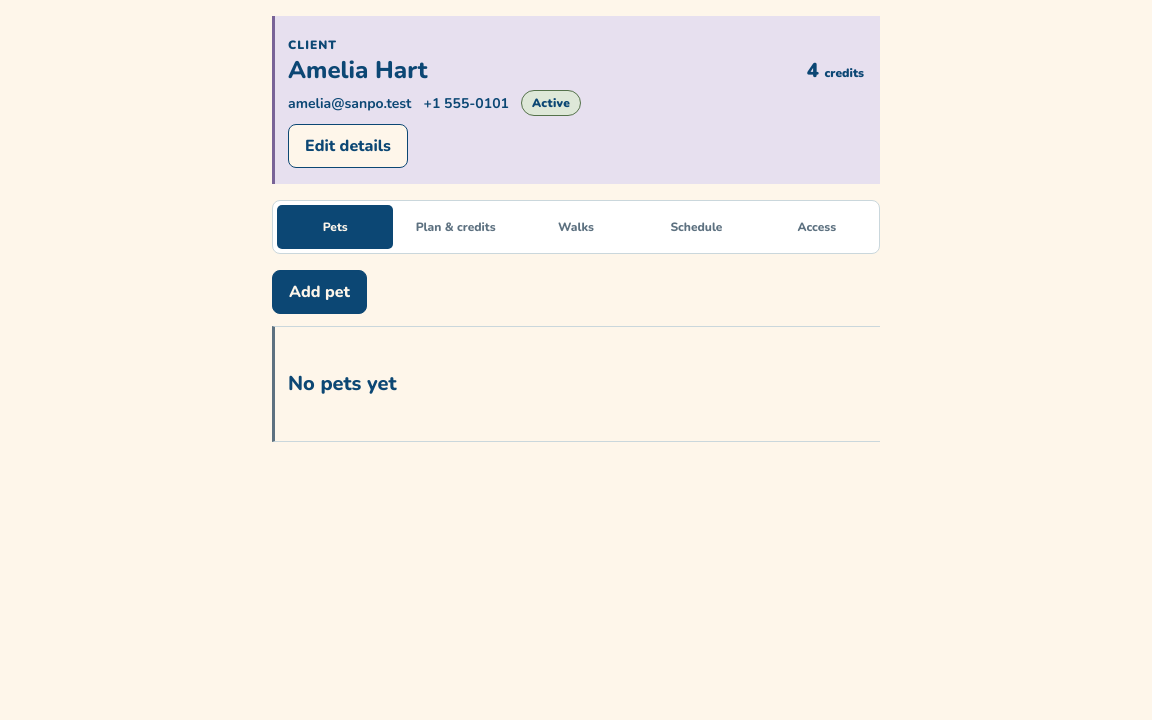
Test: ClientDetail — a client's address has opted out of email › asks again when the operator saves a different address, and says so
Expected: the heading "Amelia Hart" is shown, [288, 57, 427, 85]
Click the button "Edit details": (348, 146) [288, 124, 408, 168]
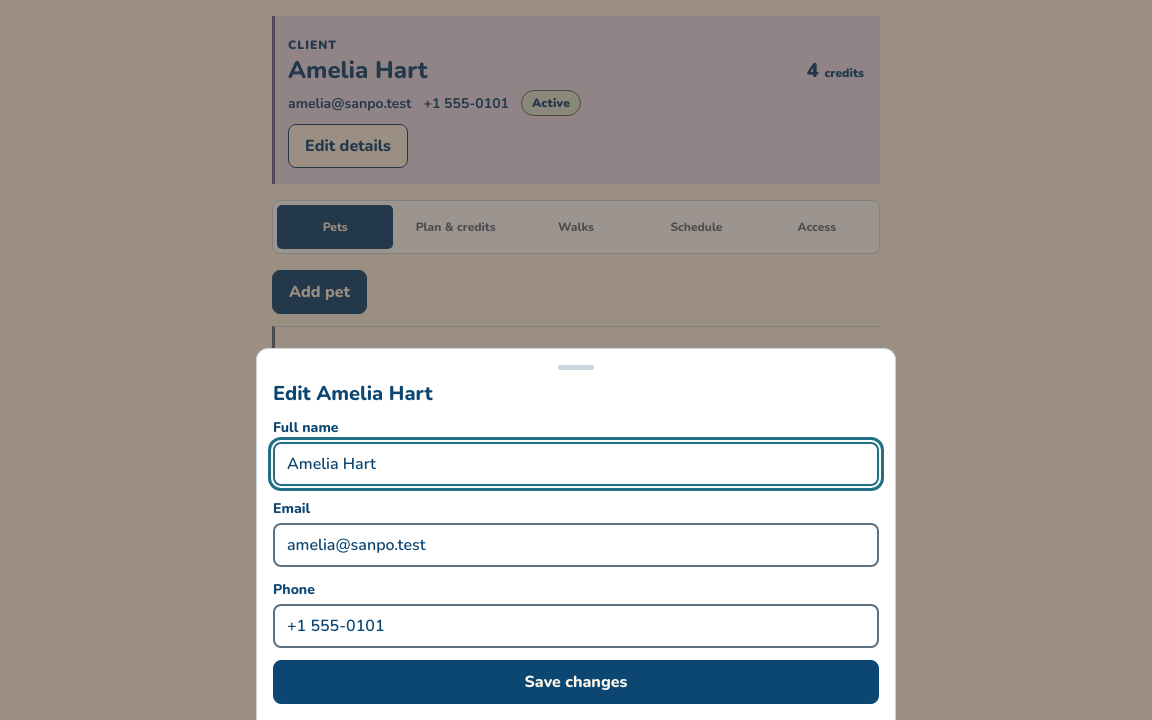
Clear the field labelled "Email": (576, 545) [273, 523, 879, 567]
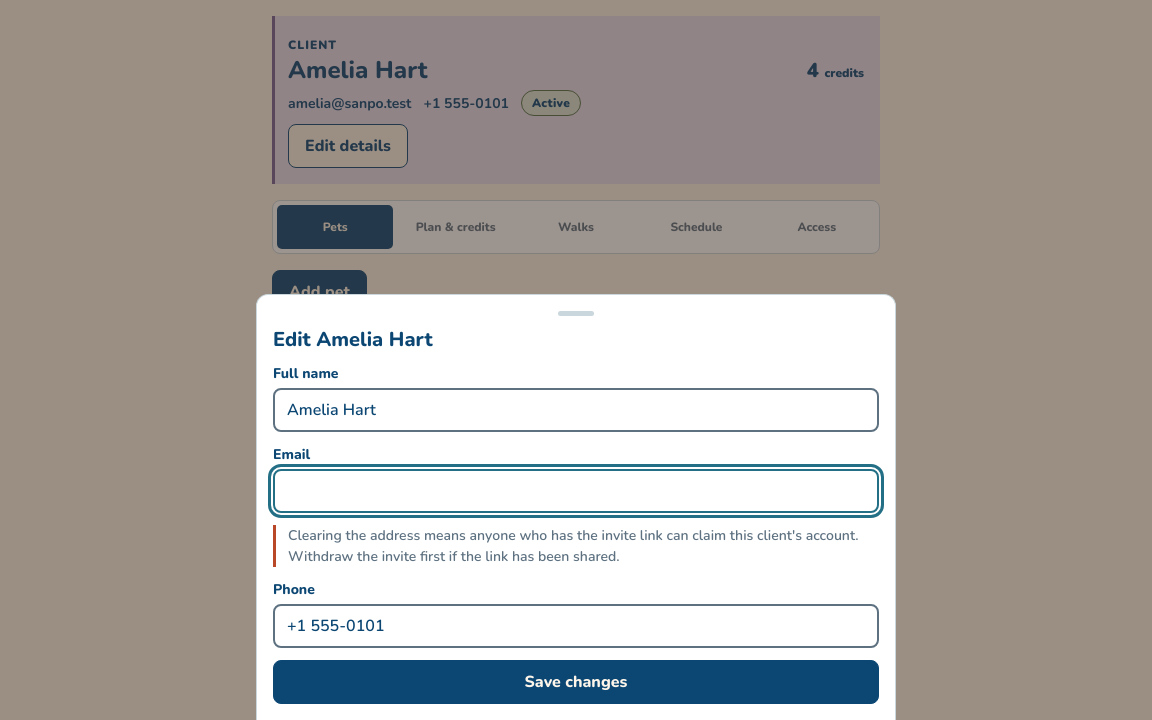
In the field labelled "Email": (576, 491) [273, 469, 879, 513], type "typo@gmial.test"
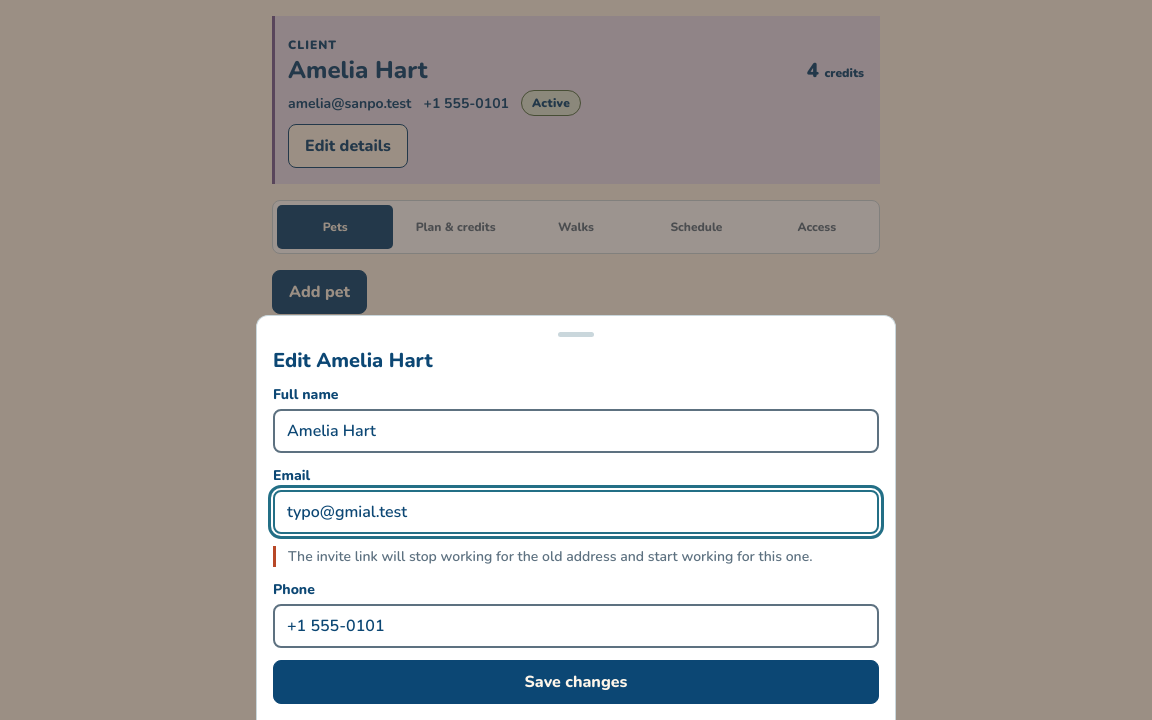
Click the button "Save changes": (576, 682) [273, 660, 879, 704]
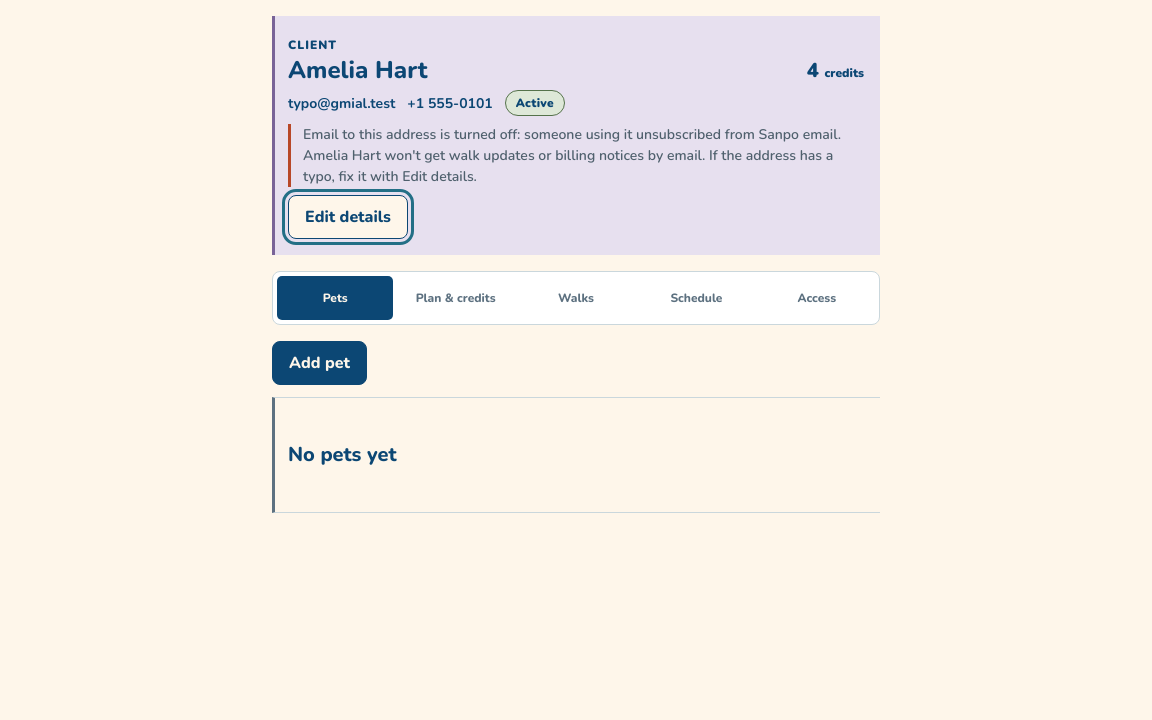
Expected: the dialog is gone
Expected: the 1st message shows "Email to this address is turned off", [303, 125, 841, 186]
